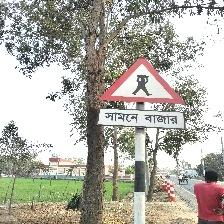Market-in-front: (98, 57, 187, 131)
